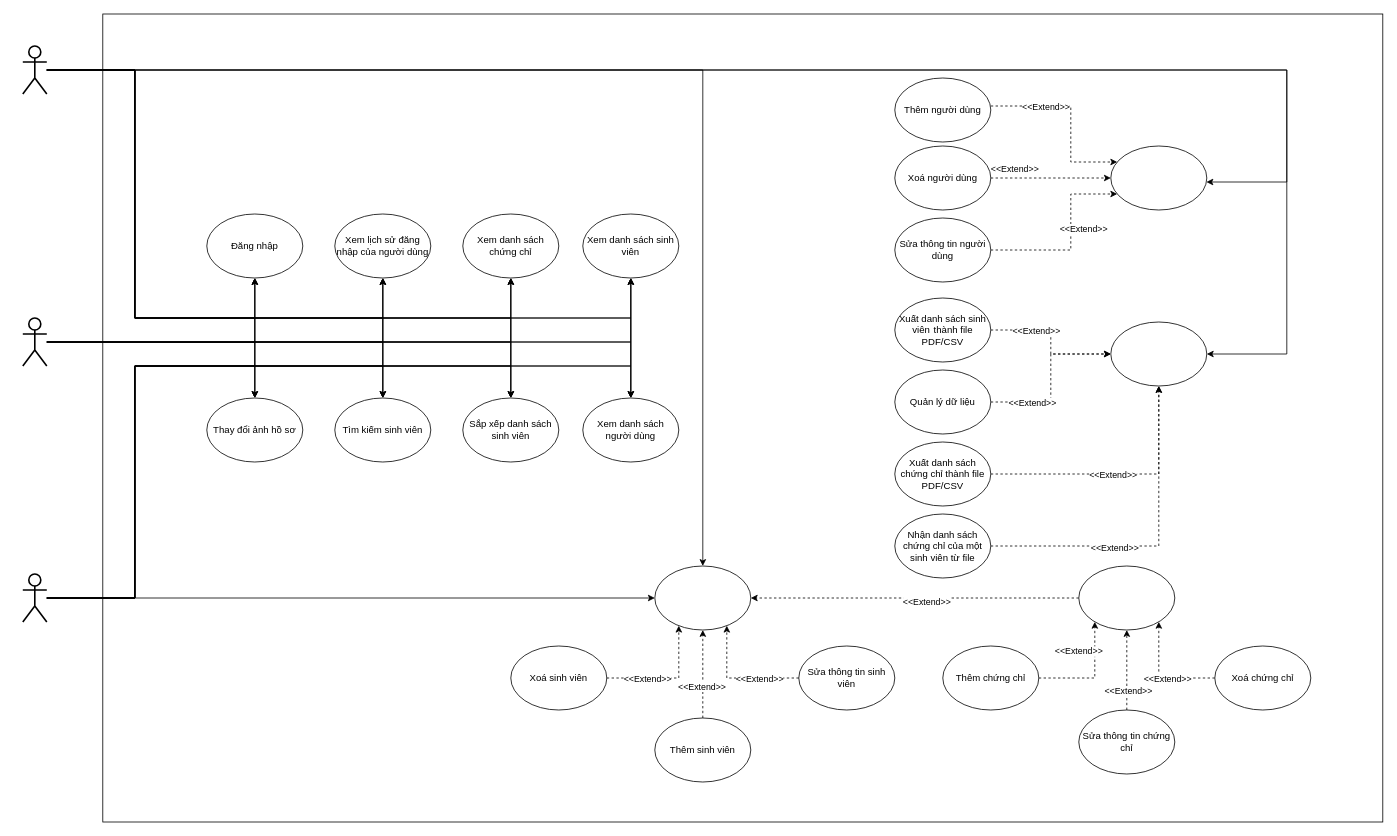
Image size: 1397x836. Some labels were removed from this diagram. Each missing label, with the box of its shape:
Admin: (22, 45, 47, 94)
Employee: (22, 317, 47, 366)
Manager: (22, 573, 47, 622)
Nhập dữ liệu từ file: (1110, 321, 1207, 386)
Quản lý chứng chỉ của sinh viên: (1078, 565, 1175, 630)
Quản lý người dùng: (1110, 145, 1207, 210)
Quản lý sinh viên: (654, 565, 751, 630)
